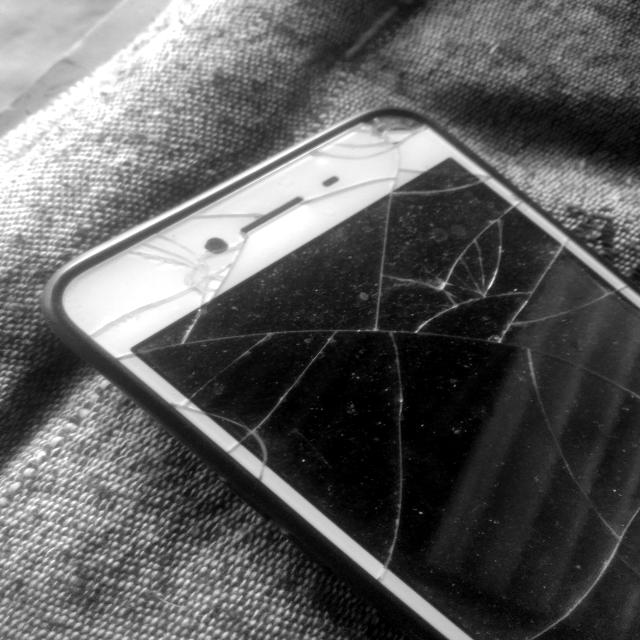Crack: (367, 250, 595, 441), (104, 194, 311, 400), (334, 100, 486, 208)
